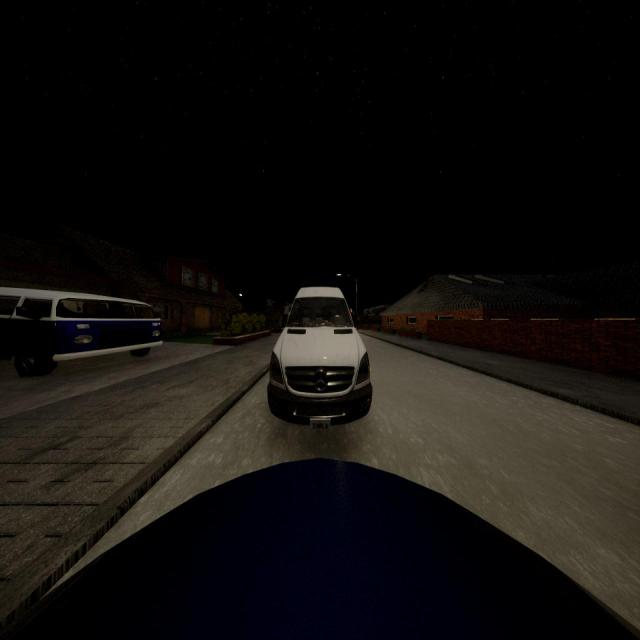Vehicle: (0, 456, 640, 640), (0, 287, 164, 377), (268, 287, 372, 426)
traffic_light: (350, 308, 352, 315)
